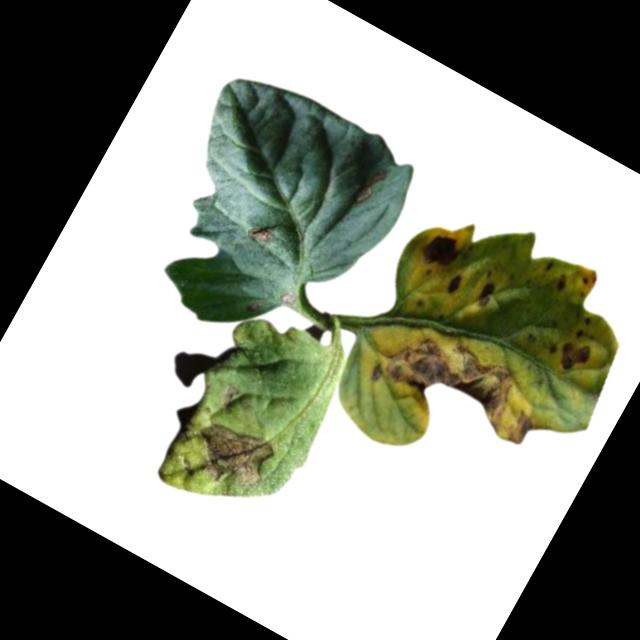Early_blight: (362, 306, 563, 473), (183, 406, 282, 500), (539, 325, 597, 383), (415, 223, 463, 275), (246, 218, 282, 251), (212, 374, 242, 410), (472, 280, 500, 313), (441, 269, 467, 299), (551, 269, 572, 295)
